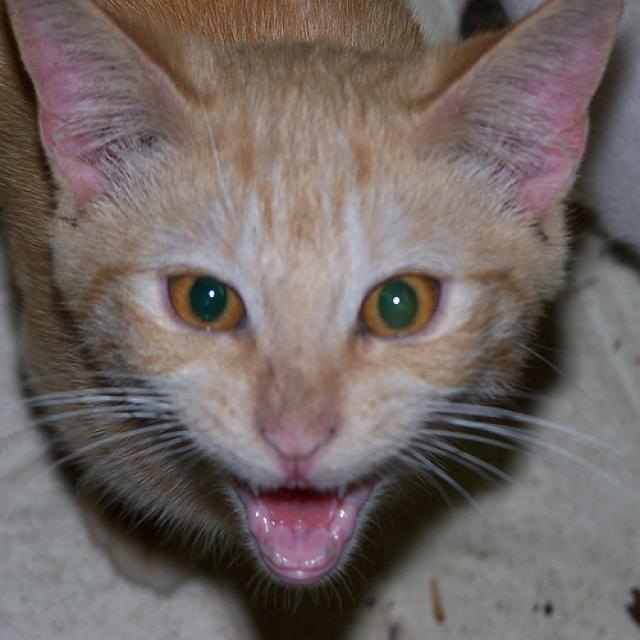cat: (1, 1, 639, 617)
